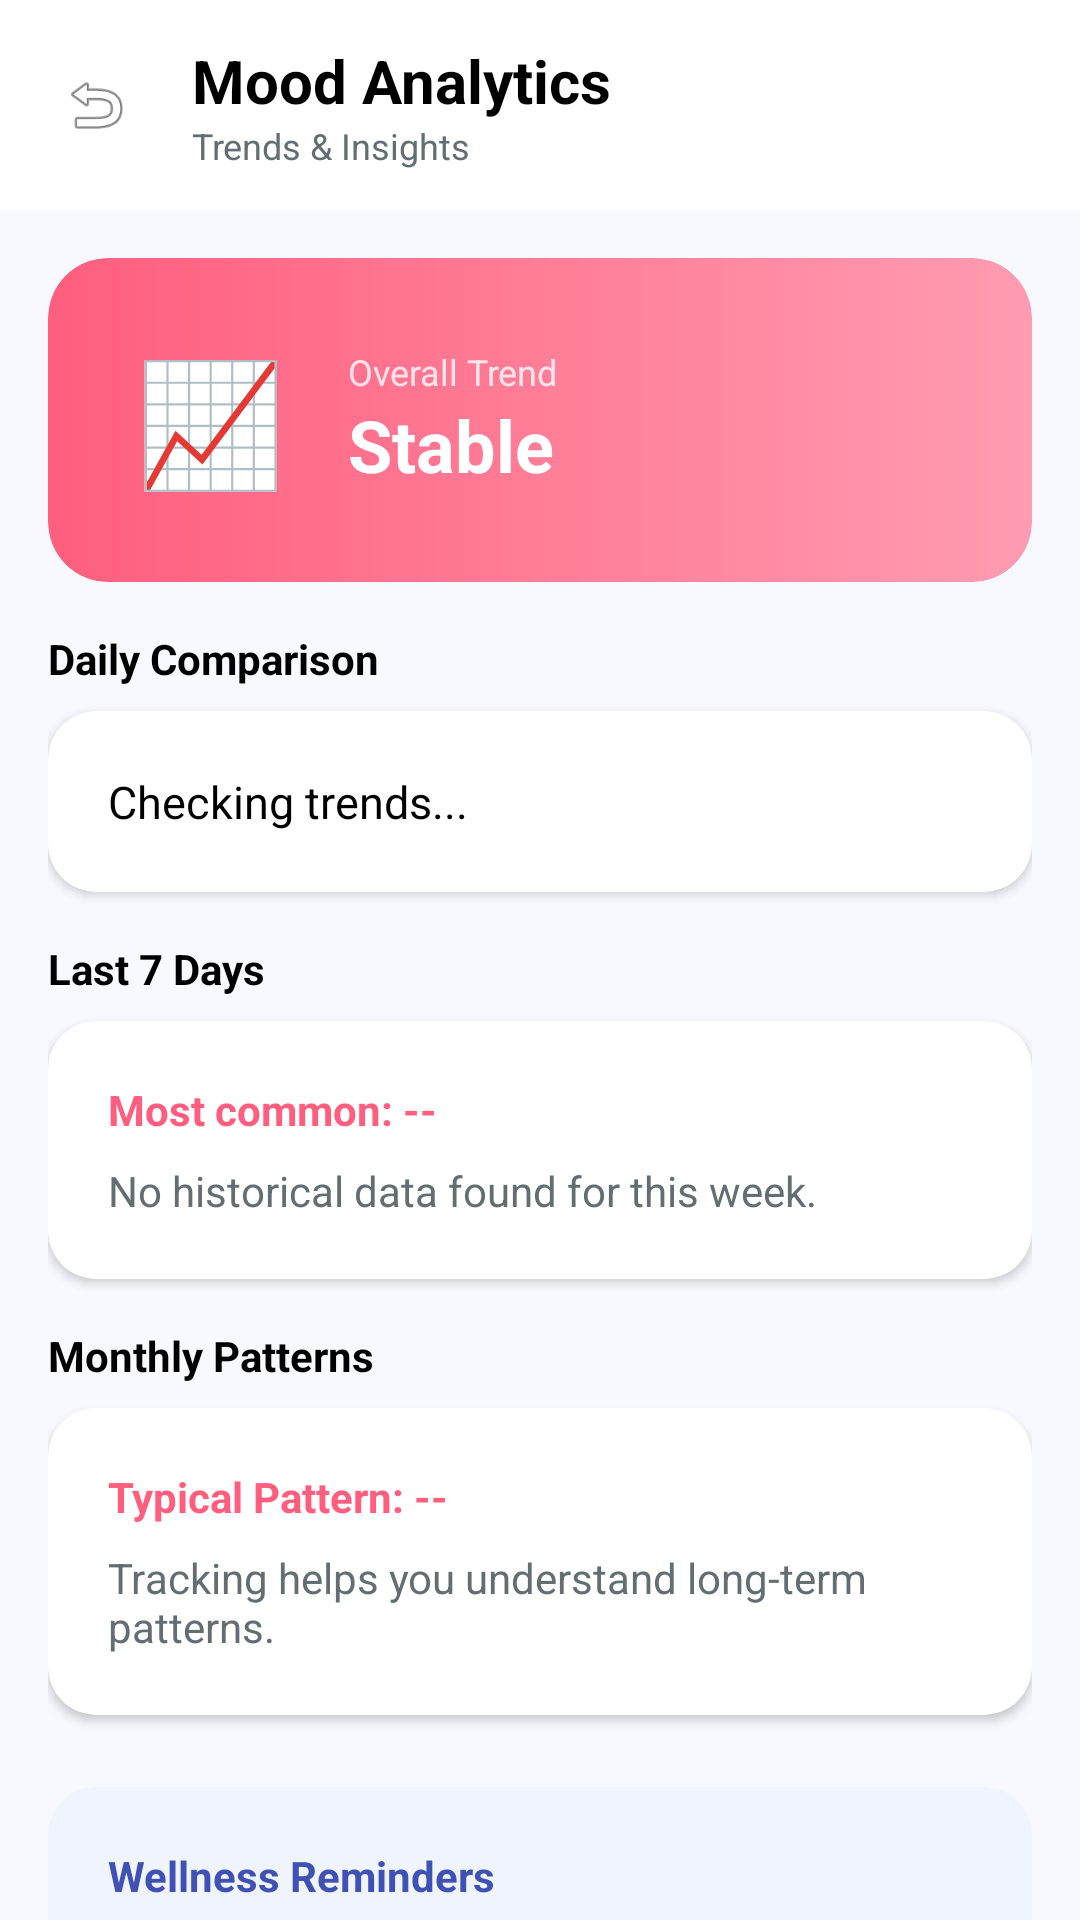

Point at icon controls on the screen. Image size 1080 x 1920, points as (x,y).
revert: (97,105)
